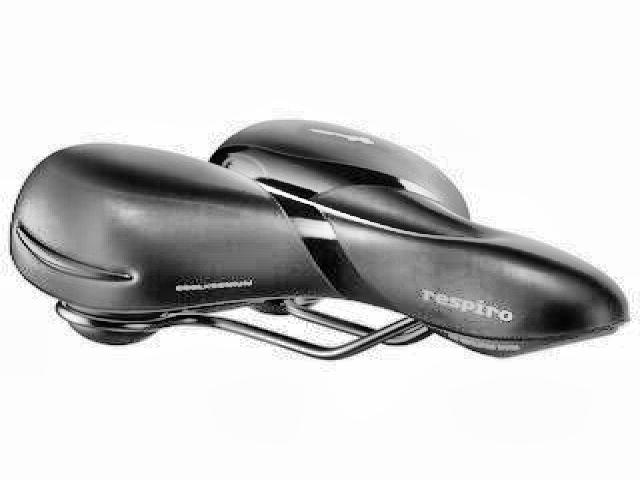saddle: (8, 117, 633, 367)
